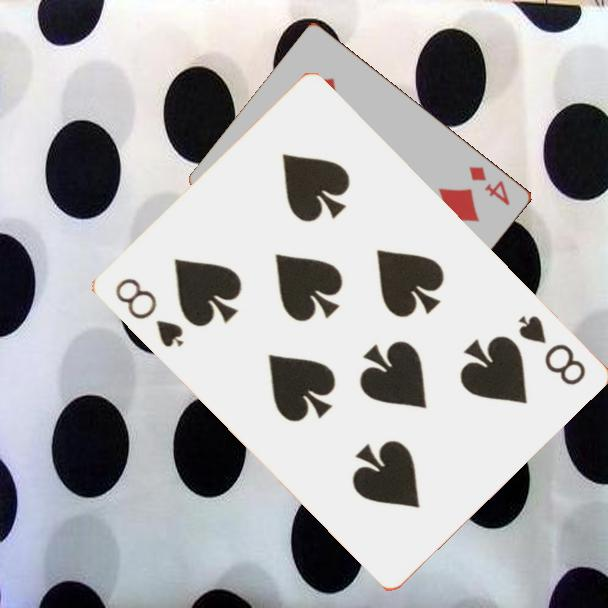d04: (466, 163, 513, 208)
s08: (111, 274, 186, 351), (513, 312, 588, 389)
